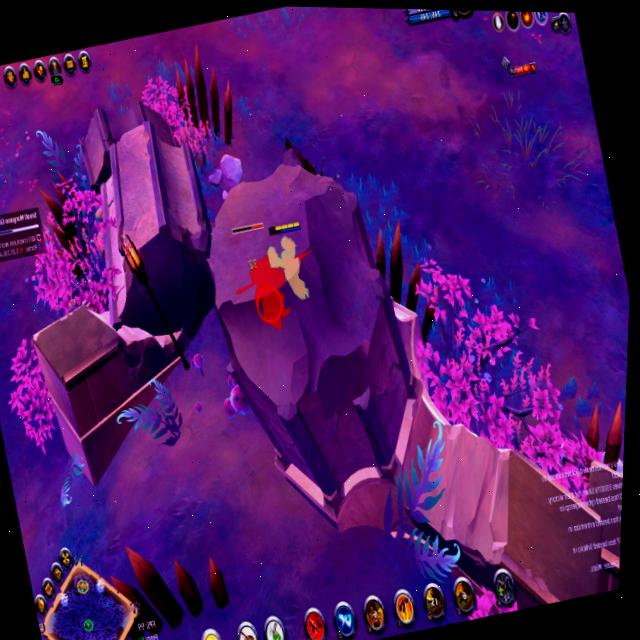ore: (218, 209, 292, 340)
red: (260, 211, 327, 315)
